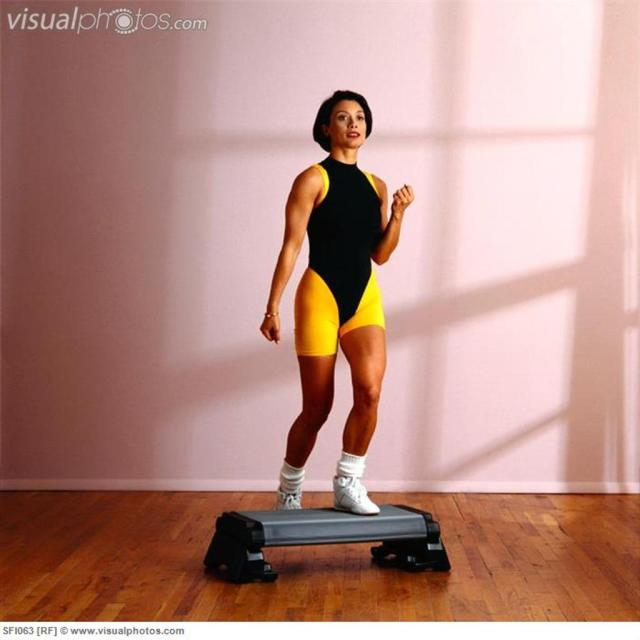Face: (330, 95, 372, 153)
